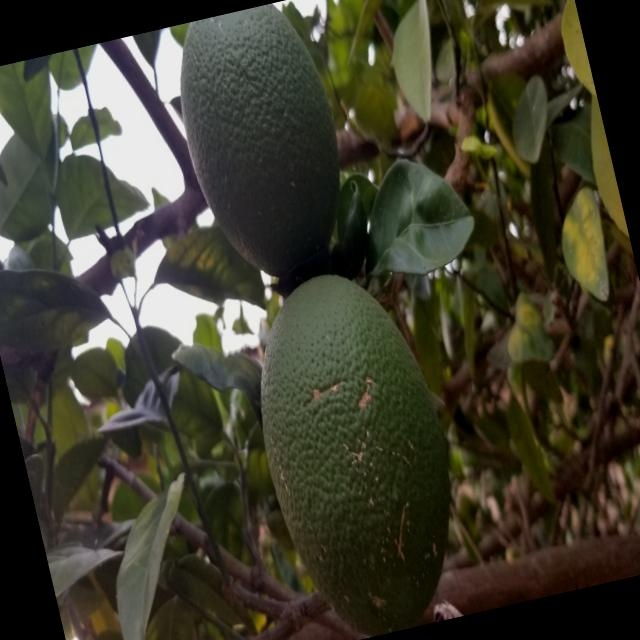agrume: (219, 260, 499, 640), (159, 0, 377, 305)
